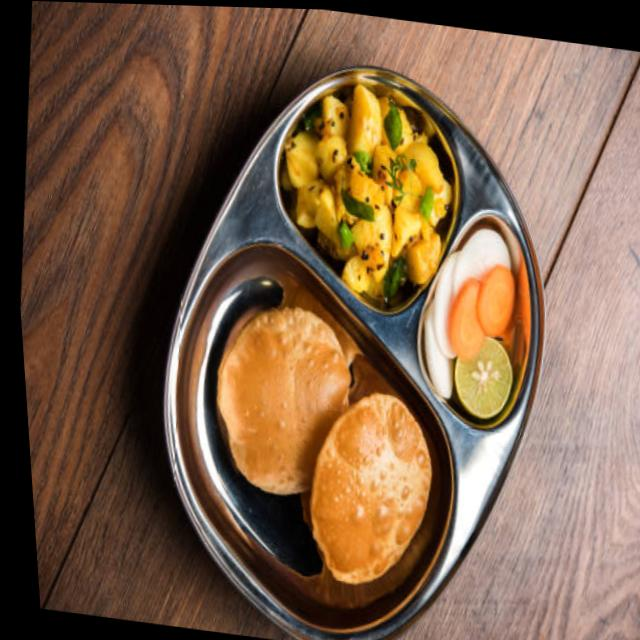CURRY: (288, 82, 450, 301)
POORI: (214, 301, 435, 586)
